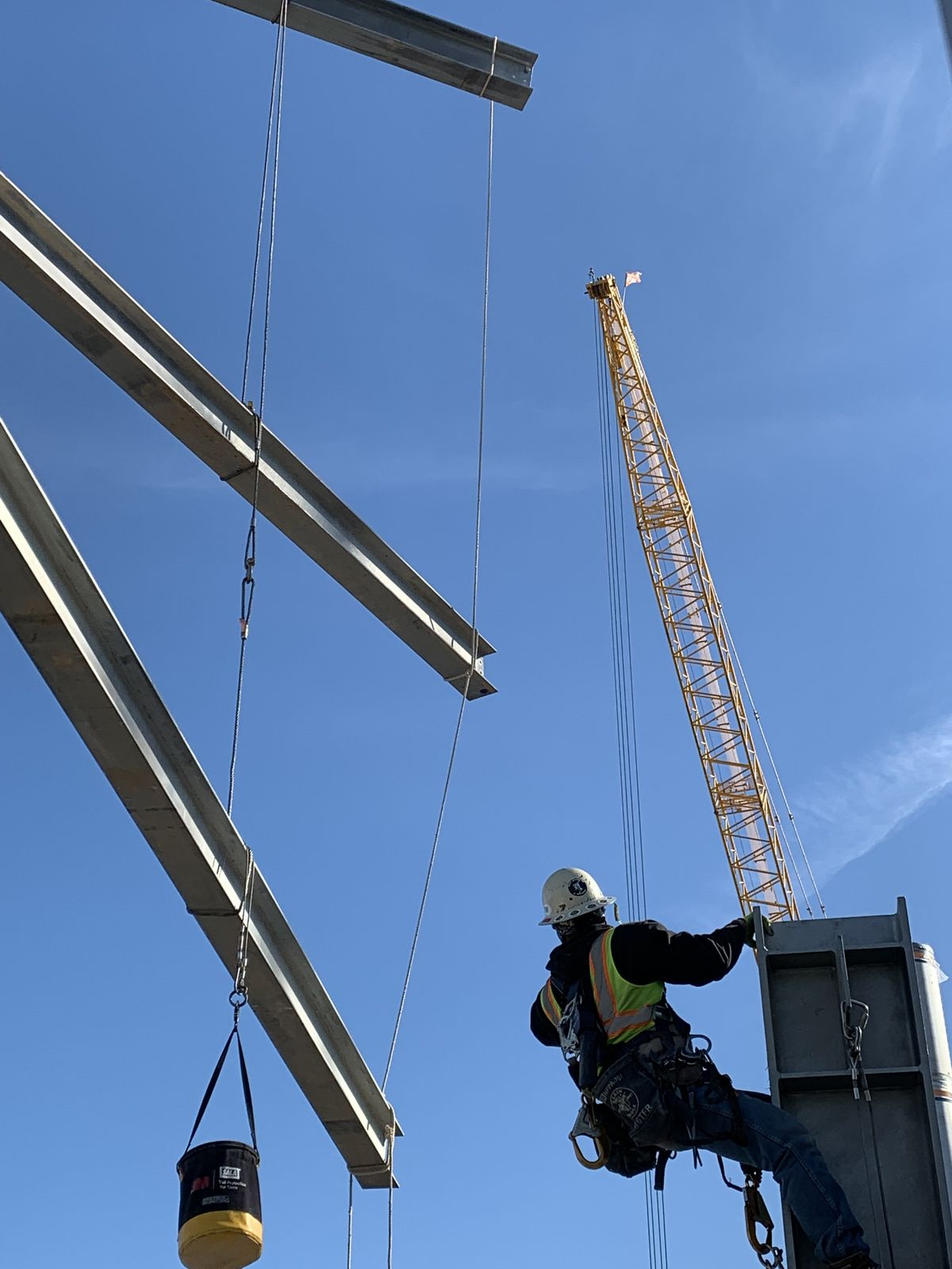crane: (566, 225, 875, 921)
hardhat: (519, 849, 605, 921)
person: (500, 841, 875, 1251)
safety_vest: (545, 924, 724, 1098)
